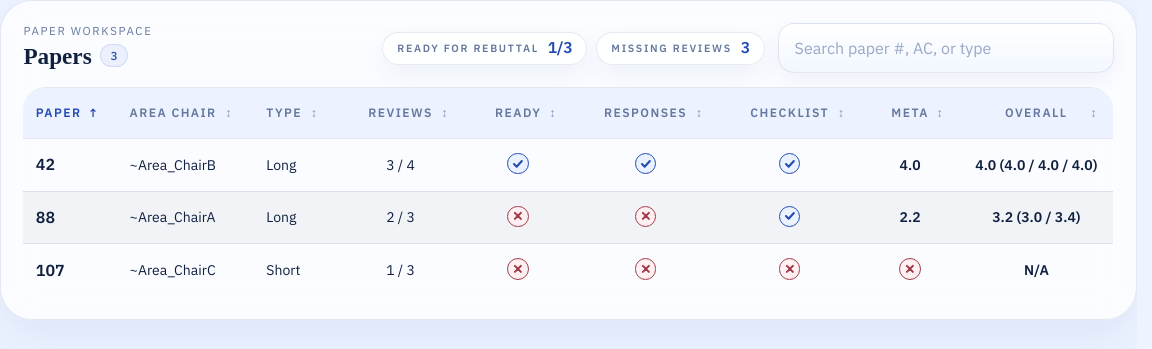
Test: PapersPanel › shows scholar-style summary pills and updates them with the filtered view
Check: the text "Ready for rebuttal" is shown, box x1=397 y1=41 x2=539 y2=55
Check: the text "1/3" is shown, box x1=548 y1=40 x2=572 y2=56
Type "42" into the field named "search papers".
click(946, 48); type("42")  # box x1=778 y1=23 x2=1114 y2=73
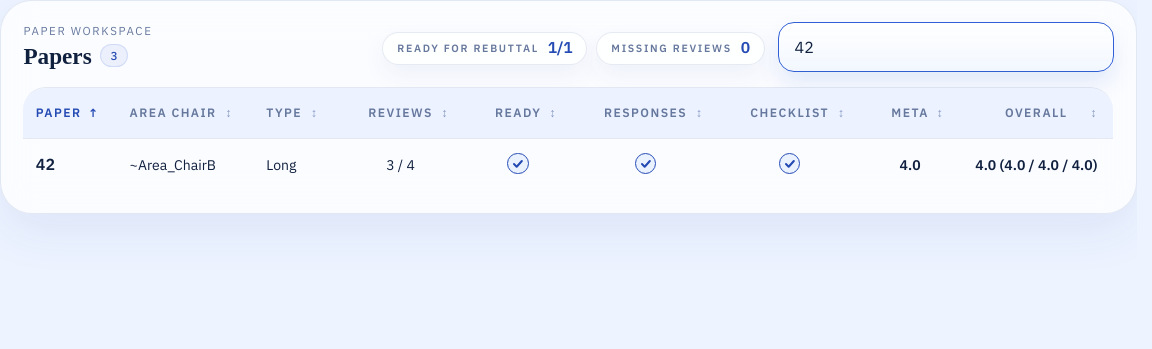
Check: the text "1/1" is shown, box x1=548 y1=40 x2=572 y2=56
Check: the text "0" is shown, box x1=741 y1=40 x2=750 y2=56
